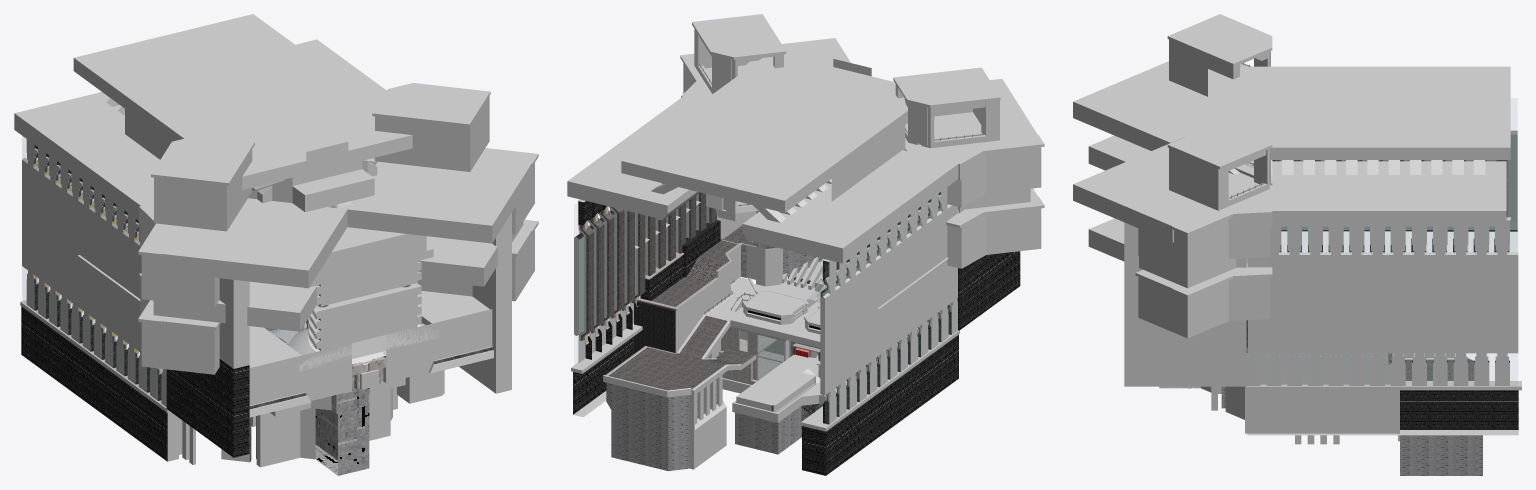
The model's file is FixedAcademy2.fbx.
3 views of the same model, side by side, from view 1: azimuth 30°, elevation 25°; view 2: azimuth 150°, elevation 25°; view 3: azimuth 270°, elevation 25° (orthographic). The views are drawn at different scales.
Parts seen in each view (by area): view 1: Ceiling_Half-Entity51589, Group#90-Entity70616, Ceiling_Half-Entity51590, Group#90-Entity70579, Group#169-Entity70561, Group#192-Entity70635, Group#87-Entity70620, Group#87-Entity70555, Group#178-Entity70627, Group#105-Entity74567, Group#35-Entity70582, Group#178-Entity70590 (+46 smaller); view 2: Ceiling_Half-Entity51589, Ceiling_Half-Entity51590, Group#169-Entity70561, Group#90-Entity70616, Group#151-Entity29889, Group#87-Entity70555, Group#111-Entity70632, Group#35-Entity70582, Group#87-Entity70620, Group#192-Entity70635, Group#136-Entity49188, Group#168-Entity70565 (+52 smaller); view 3: Ceiling_Half-Entity51590, Group#90-Entity70579, Ceiling_Half-Entity51589, Group#111-Entity70632, Group#90-Entity70616, Group#5-Entity70566, Group#168-Entity70565, Group#87-Entity70620, Group#35-Entity70599, Group#87-Entity70555, Group#151-Entity29889, Wall_Design_1-Entity55165 (+29 smaller).
Part boxes in pixels (left/top/right/bottom): Ceiling_Half-Entity51589: left=14, top=36, right=339, bottom=220; Group#90-Entity70616: left=138, top=198, right=347, bottom=331; Ceiling_Half-Entity51590: left=164, top=14, right=412, bottom=203; Group#90-Entity70579: left=347, top=148, right=538, bottom=286; Group#169-Entity70561: left=20, top=300, right=178, bottom=461; Group#192-Entity70635: left=78, top=255, right=249, bottom=457; Group#87-Entity70620: left=372, top=83, right=490, bottom=171; Group#87-Entity70555: left=151, top=135, right=254, bottom=231; Group#178-Entity70627: left=386, top=309, right=493, bottom=380; Group#105-Entity74567: left=160, top=356, right=386, bottom=475; Group#35-Entity70582: left=138, top=273, right=220, bottom=374; Group#178-Entity70590: left=249, top=343, right=351, bottom=417; Ceiling_Half-Entity51589: left=703, top=63, right=958, bottom=263; Ceiling_Half-Entity51590: left=567, top=55, right=852, bottom=220; Group#169-Entity70561: left=801, top=330, right=959, bottom=475; Group#90-Entity70616: left=905, top=79, right=1044, bottom=209; Group#151-Entity29889: left=606, top=379, right=726, bottom=471; Group#87-Entity70555: left=893, top=67, right=1000, bottom=148; Group#111-Entity70632: left=637, top=220, right=742, bottom=352; Group#35-Entity70582: left=897, top=188, right=1044, bottom=268; Group#87-Entity70620: left=692, top=14, right=786, bottom=93; Group#192-Entity70635: left=878, top=206, right=1020, bottom=330; Group#136-Entity49188: left=603, top=347, right=724, bottom=397; Group#168-Entity70565: left=571, top=323, right=642, bottom=417; Ceiling_Half-Entity51590: left=1185, top=107, right=1510, bottom=226; Group#90-Entity70579: left=1073, top=143, right=1272, bottom=288; Ceiling_Half-Entity51589: left=1185, top=66, right=1510, bottom=127; Group#111-Entity70632: left=1245, top=347, right=1397, bottom=433; Group#90-Entity70616: left=1073, top=61, right=1253, bottom=170; Group#5-Entity70566: left=1124, top=304, right=1247, bottom=386; Group#168-Entity70565: left=1246, top=381, right=1521, bottom=435; Group#87-Entity70620: left=1167, top=117, right=1272, bottom=210; Group#35-Entity70599: left=1135, top=263, right=1272, bottom=338; Group#87-Entity70555: left=1167, top=14, right=1272, bottom=96; Group#151-Entity29889: left=1400, top=435, right=1482, bottom=475; Wall_Design_1-Entity55165: left=1495, top=304, right=1518, bottom=385.
Bounding box in the file's own units: 664 × 572 × 698.
